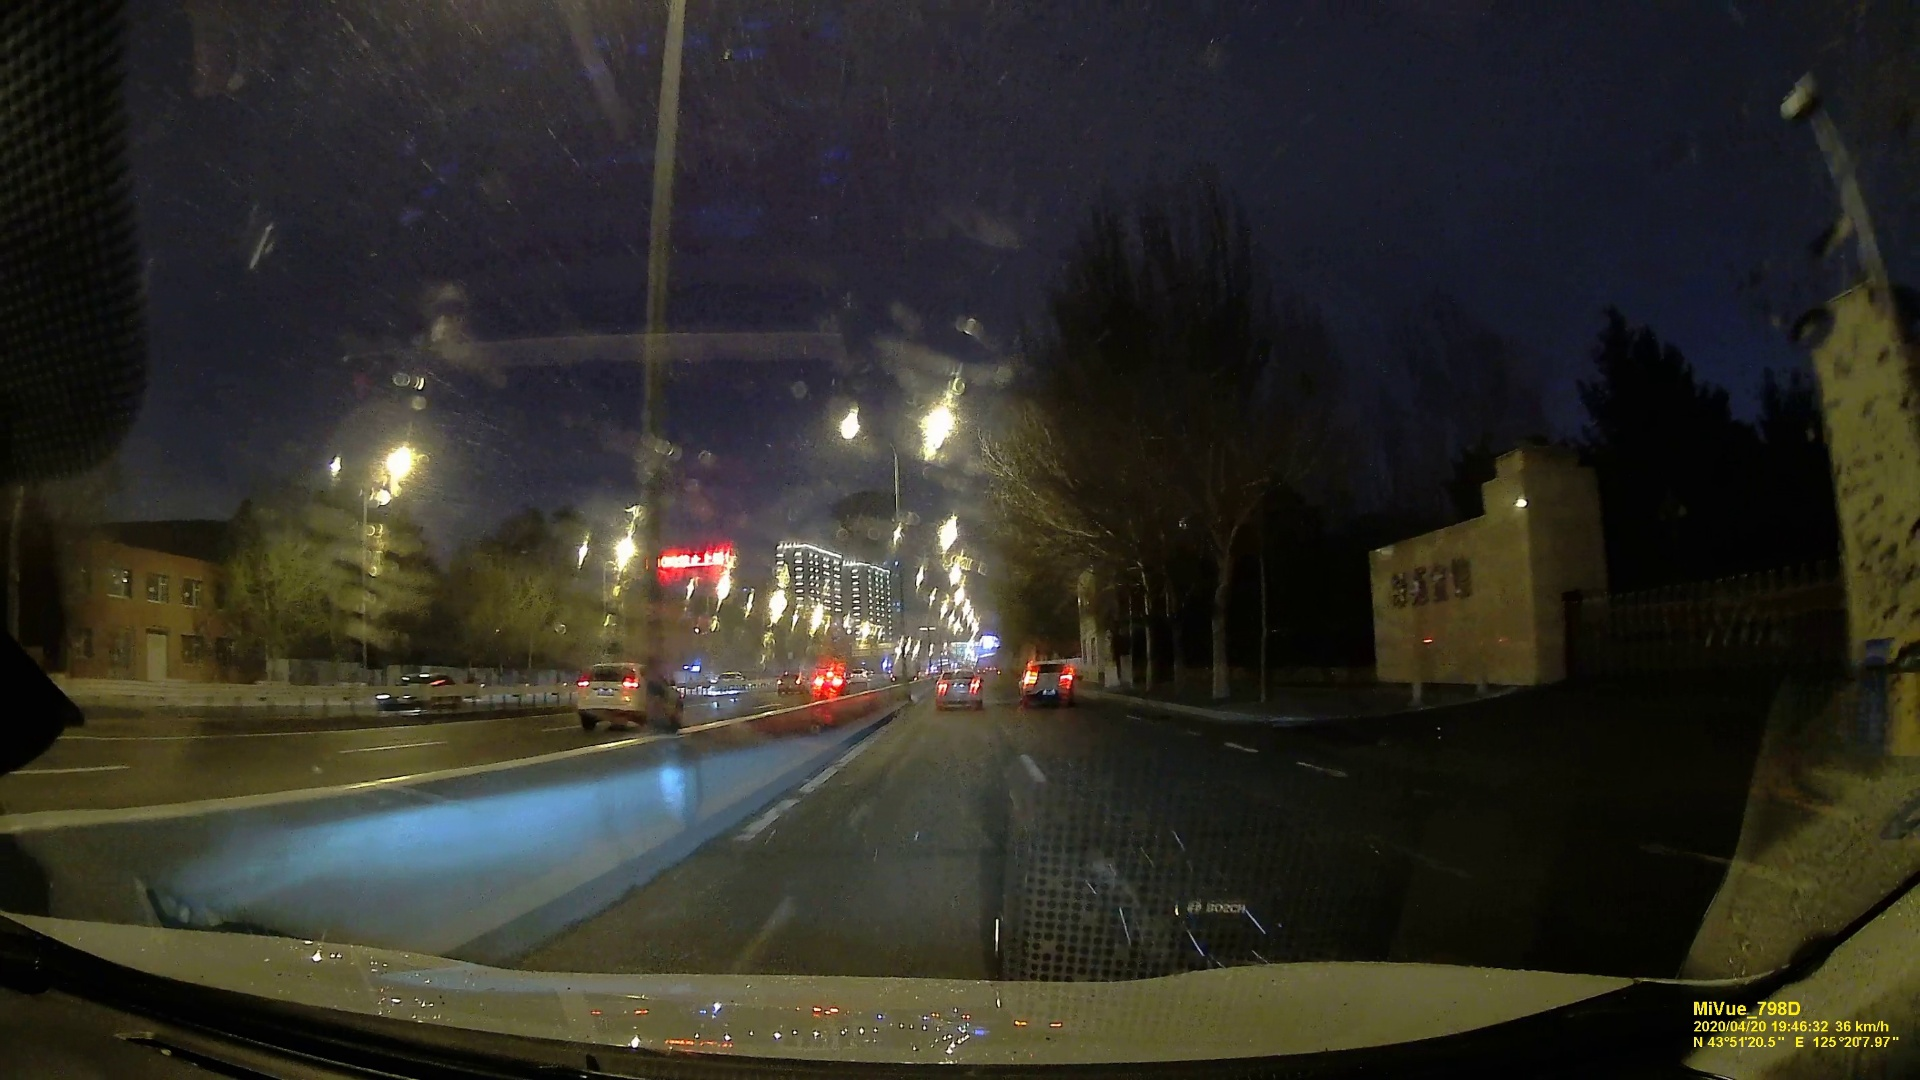vehicle: (570, 659, 684, 731), (375, 673, 463, 711), (1019, 659, 1075, 705), (936, 673, 981, 709), (814, 669, 845, 690)
